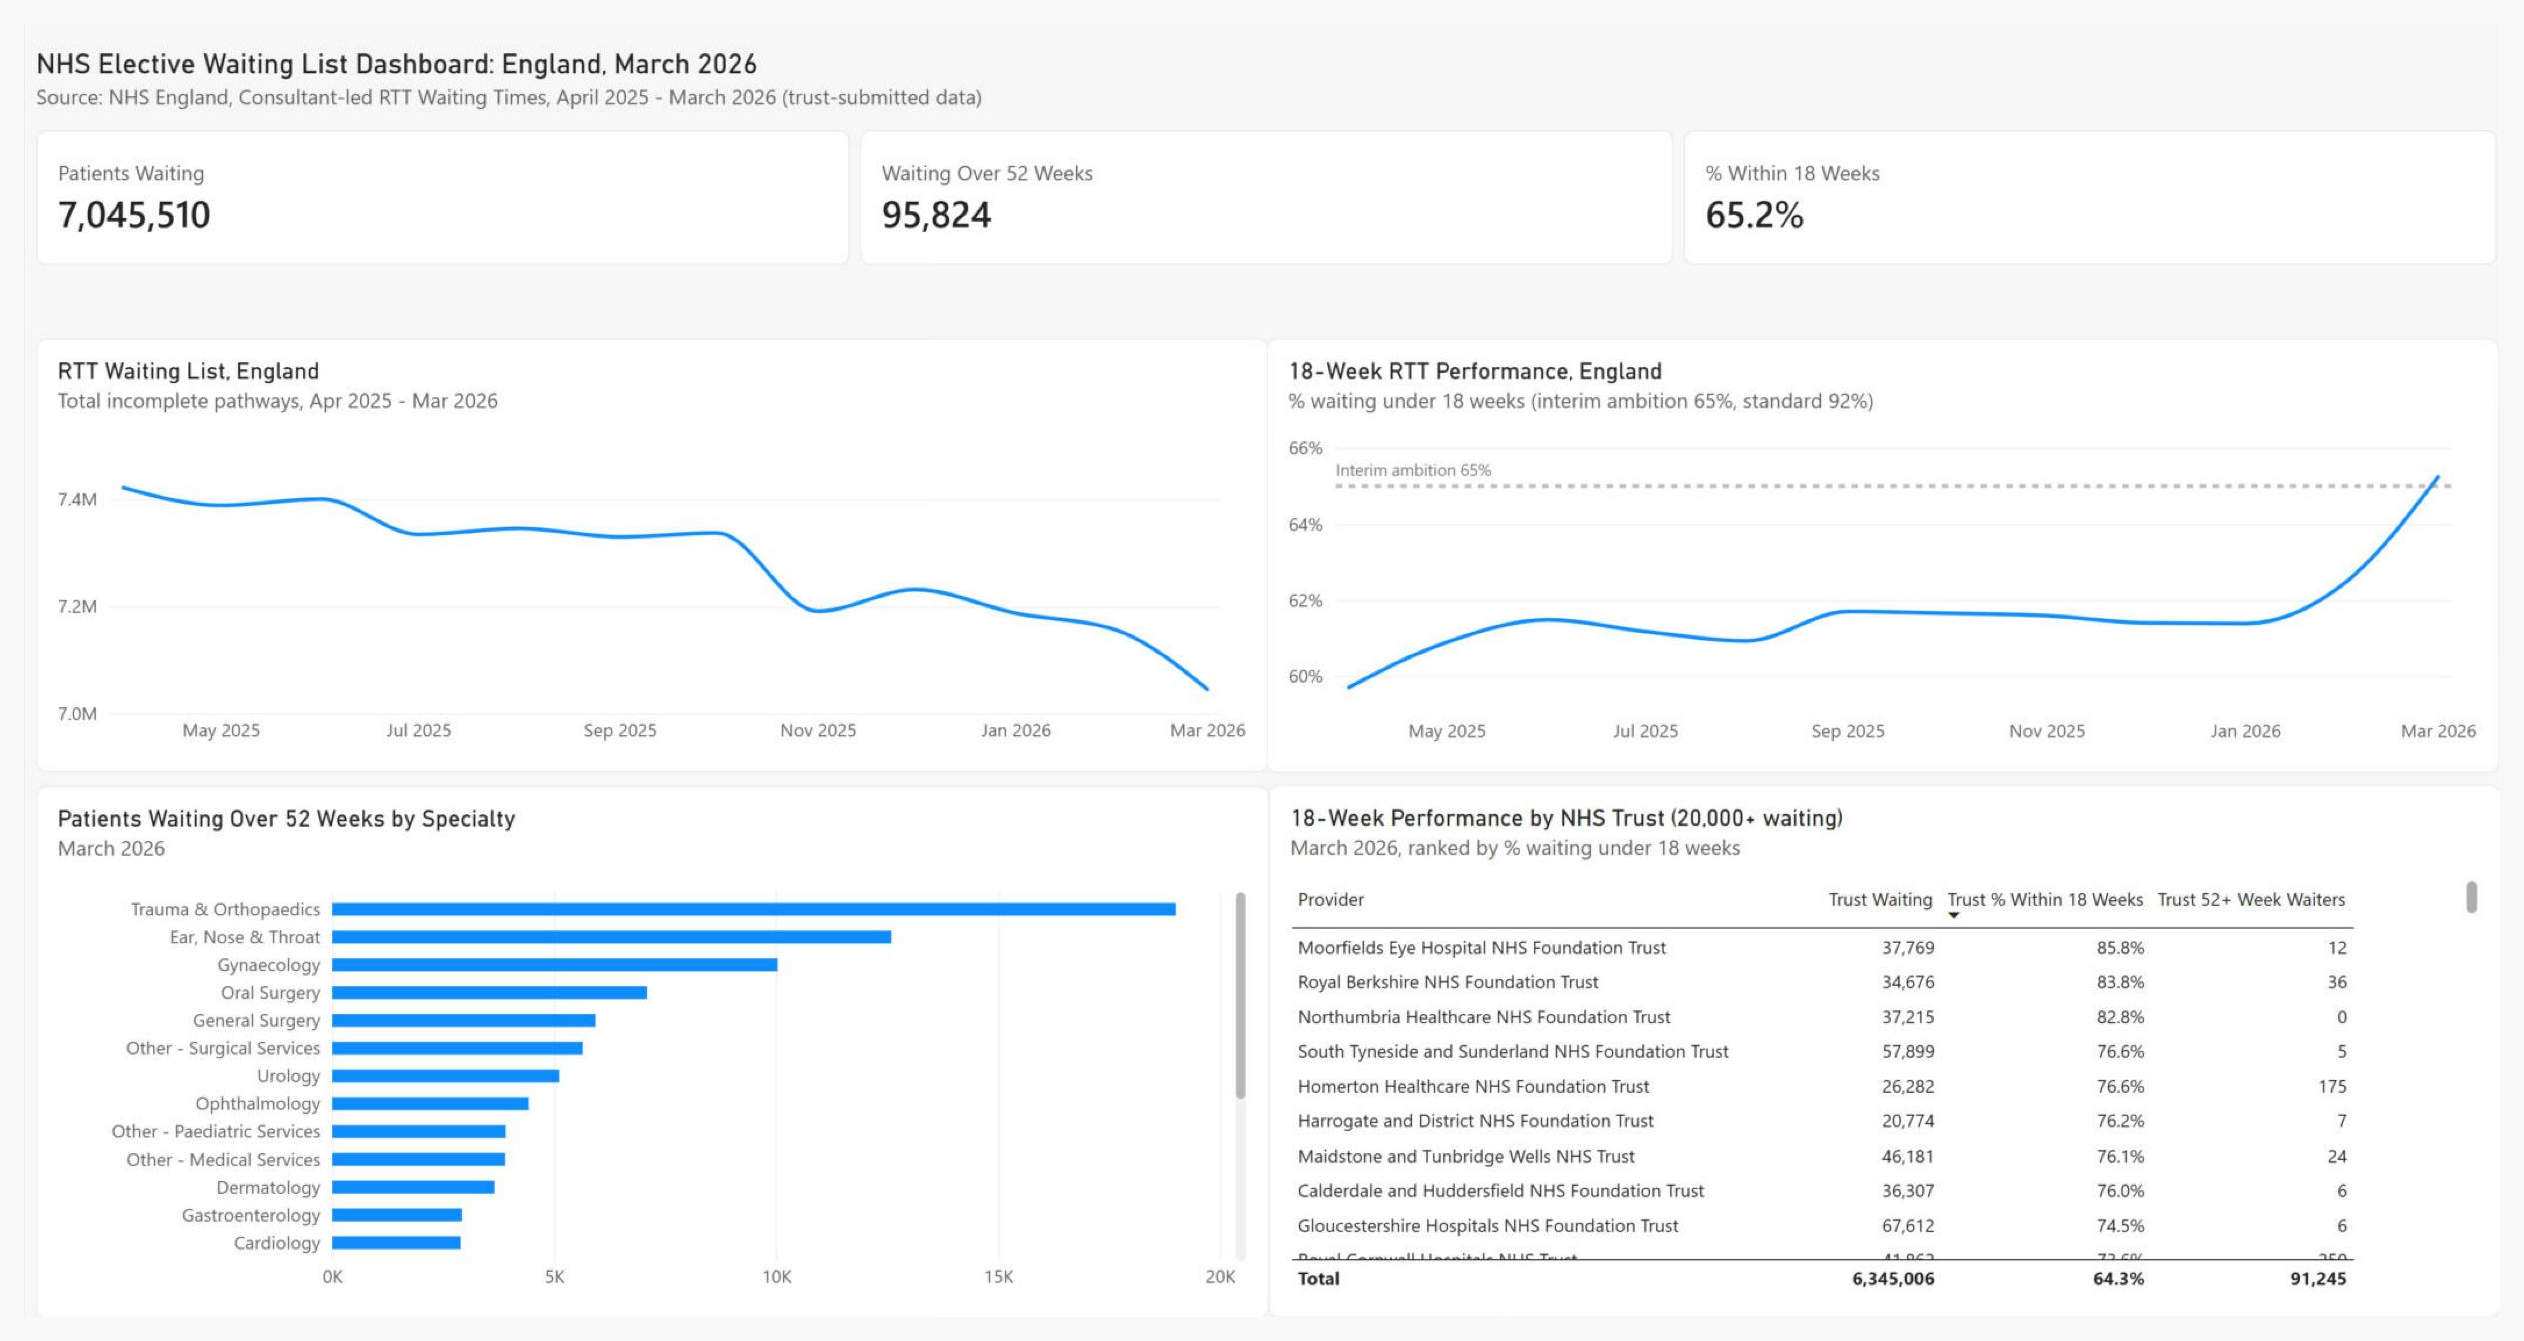

What the dashboard file says about the page in this screenshot:
{"tool":"powerbi","page":{"name":"Page 1","canvas":[1920,1080],"ordinal":0},"visuals":[{"type":"cardVisual","title":"NHS Elective Waiting List Dashboard: England, March 2026","fields":{"Data":["KPI Measures.KPI Waiting","KPI Measures.KPI 18w","KPI Measures.KPI 52w","KPI Measures.KPI Gap"]},"box":[24,124,1872,150],"z":0},{"type":"lineChart","title":"Waiting List Trend","fields":{"Category":["Provider.month_start"],"Y":["KPI Measures.Trend Waiting"]},"box":[24,290,928,330],"z":1},{"type":"lineChart","title":"18-Week Performance Trend","fields":{"Category":["Provider.month_start"],"Y":["KPI Measures.Trend Pct 18w"]},"box":[964,290,928,330],"z":2},{"type":"clusteredBarChart","title":"Year-Long Waits by Specialty","fields":{"Category":["Specialty.Specialty"],"Y":["Monthly.Specialty 52+ Week Waits"]},"box":[24,636,740,413],"z":3},{"type":"tableEx","title":"NHS Trust League Table","fields":{"Values":["Provider.Provider","Monthly.Trust Waiting","Monthly.Trust % Within 18 Weeks","Monthly.Trust 52+ Week Waiters"]},"box":[780,636,1116,413],"z":4},{"type":"shape","title":"NHS Elective Waiting List Dashboard","box":[0,0,1920,108],"z":5},{"type":"slicer","fields":{"Values":["Dates.Month"]},"box":[1200,14,220,80],"z":6},{"type":"slicer","fields":{"Values":["Provider.ICB"]},"box":[1436,14,260,80],"z":7},{"type":"slicer","fields":{"Values":["Provider.Provider Type"]},"box":[1660,14,190,80],"z":8}]}

Visuals, with their boxes on the page's 1920x1080 design canvas (x1, y1, x2, y2). These are canvas units, not pixel positions in the 2524x1341 screenshot, which may show the page scaled, cropped or inside an application window:
"NHS Elective Waiting List Dashboard: England, March 2026" cardVisual: crop(24, 124, 1896, 274)
"Waiting List Trend" lineChart: crop(24, 290, 952, 620)
"18-Week Performance Trend" lineChart: crop(964, 290, 1892, 620)
"Year-Long Waits by Specialty" clusteredBarChart: crop(24, 636, 764, 1049)
"NHS Trust League Table" tableEx: crop(780, 636, 1896, 1049)
"NHS Elective Waiting List Dashboard" shape: crop(0, 0, 1920, 108)
slicer - Dates.Month: crop(1200, 14, 1420, 94)
slicer - Provider.ICB: crop(1436, 14, 1696, 94)
slicer - Provider.Provider Type: crop(1660, 14, 1850, 94)
